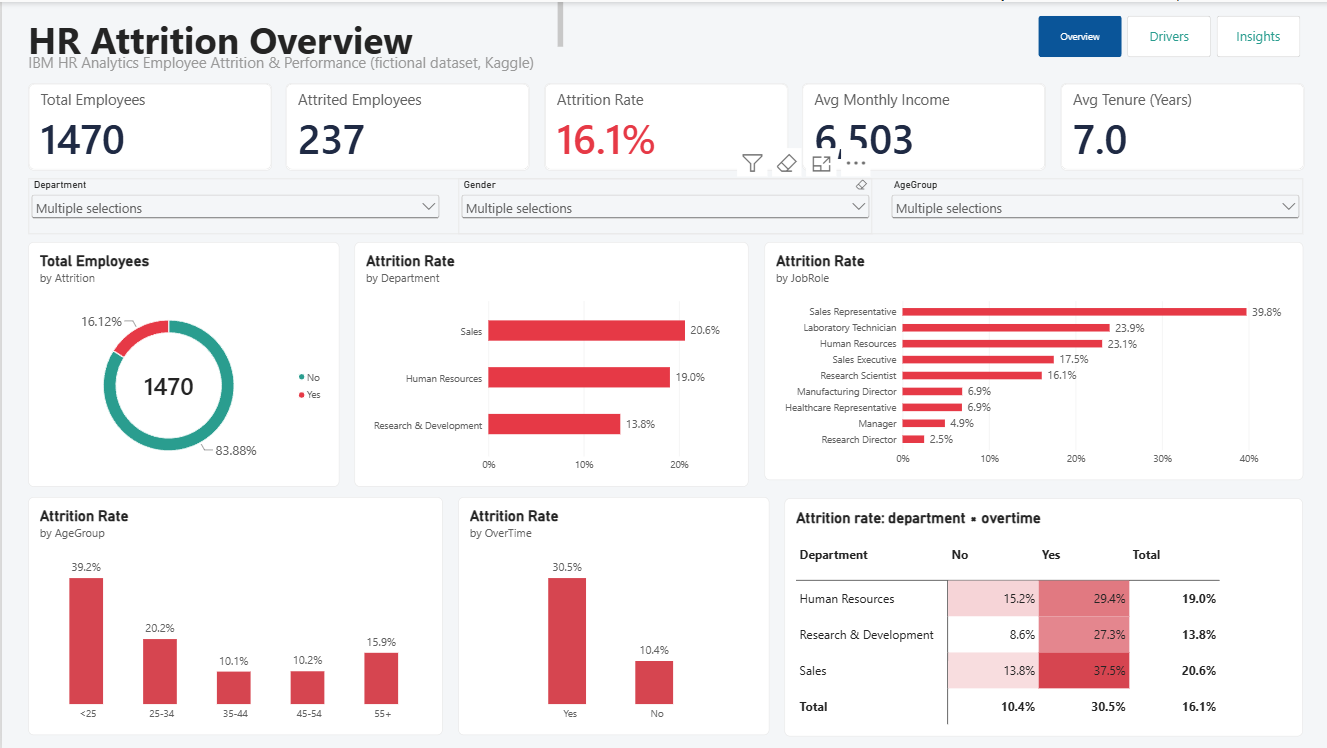

Layout of this report page (visuals, bound fields, positions):
{"tool":"powerbi","page":{"name":"Overview","canvas":[1920,1080],"ordinal":0},"visuals":[{"type":"cardVisual","title":"Total Employee","fields":{"Data":["Measures (2).Total Employees"]},"box":[38,117,353,126],"z":0,"group":"g1"},{"type":"slicer","title":"Department","fields":{"Values":["HR_Employee.Department"]},"box":[38,255,600,81],"z":0,"group":"g2"},{"type":"cardVisual","title":"Attrited employee","fields":{"Data":["Measures (2).Attrited Employees"]},"box":[411,117,353,126],"z":1000,"group":"g1"},{"type":"slicer","title":"Gender","fields":{"Values":["HR_Employee.Gender"]},"box":[660,255,600,81],"z":1000,"group":"g2"},{"type":"group","id":"g1","title":"KPI","box":[38,117,1847,126],"z":2000},{"type":"cardVisual","title":"Attrition Rate","fields":{"Data":["Measures (2).Attrition Rate"]},"box":[785,117,353,126],"z":2000,"group":"g1"},{"type":"slicer","title":"Age Group","fields":{"Values":["HR_Employee.AgeGroup"]},"box":[1283,255,600,81],"z":2000,"group":"g2"},{"type":"cardVisual","title":"Avg Monthly Income","fields":{"Data":["Measures (2).Avg Monthly Income"]},"box":[1158,117,353,126],"z":3000,"group":"g1"},{"type":"group","id":"g2","title":"Slicer","box":[38,255,1845,81],"z":3000},{"type":"cardVisual","title":"Avg Tenure","fields":{"Data":["Measures (2).Avg Tenure (Years)"]},"box":[1532,117,353,126],"z":4000,"group":"g1"},{"type":"donutChart","fields":{"Category":["HR_Employee.Attrition"],"Y":["Measures (2).Total Employees"]},"box":[38,348,450,354],"z":4000},{"type":"clusteredBarChart","fields":{"Category":["HR_Employee.Department"],"Y":["Measures (2).Attrition Rate"]},"box":[510,348,570,354],"z":5000},{"type":"textbox","title":"Subtitle","box":[38,72,1200,33],"z":5500},{"type":"clusteredBarChart","fields":{"Category":["HR_Employee.JobRole"],"Y":["Measures (2).Attrition Rate"]},"box":[1103,348,780,345],"z":6000},{"type":"clusteredColumnChart","fields":{"Category":["HR_Employee.AgeGroup"],"Y":["Measures (2).Attrition Rate"]},"box":[38,717,600,345],"z":7000},{"type":"clusteredColumnChart","fields":{"Category":["HR_Employee.OverTime"],"Y":["Measures (2).Attrition Rate"]},"box":[660,717,450,345],"z":8000},{"type":"pivotTable","title":"Attrition rate: department × overtime","fields":{"Rows":["HR_Employee.Department"],"Values":["Measures (2).Attrition Rate"],"Columns":["HR_Employee.OverTime"]},"box":[1133,717.6,750,345],"z":9000},{"type":"textbox","title":"Title","box":[38,0,774.5,76],"z":10000},{"type":"pageNavigator","box":[1500,20,380,60],"z":10001}]}

Visuals, with their boxes in screenshot pixels (x1, y1, x2, y2), scaled from the page's 1920x1080 canvas onto the 1327x748 screenshot:
"Total Employee" cardVisual: box=[26, 81, 270, 168]
"Department" slicer: box=[26, 177, 441, 233]
"Attrited employee" cardVisual: box=[284, 81, 528, 168]
"Gender" slicer: box=[456, 177, 871, 233]
"KPI" group: box=[26, 81, 1303, 168]
"Attrition Rate" cardVisual: box=[543, 81, 787, 168]
"Age Group" slicer: box=[887, 177, 1301, 233]
"Avg Monthly Income" cardVisual: box=[800, 81, 1044, 168]
"Slicer" group: box=[26, 177, 1301, 233]
"Avg Tenure" cardVisual: box=[1059, 81, 1303, 168]
donutChart - HR_Employee.Attrition x Measures (2).Total Employees: box=[26, 241, 337, 486]
clusteredBarChart - HR_Employee.Department x Measures (2).Attrition Rate: box=[352, 241, 746, 486]
"Subtitle" textbox: box=[26, 50, 856, 73]
clusteredBarChart - HR_Employee.JobRole x Measures (2).Attrition Rate: box=[762, 241, 1301, 480]
clusteredColumnChart - HR_Employee.AgeGroup x Measures (2).Attrition Rate: box=[26, 497, 441, 736]
clusteredColumnChart - HR_Employee.OverTime x Measures (2).Attrition Rate: box=[456, 497, 767, 736]
"Attrition rate: department × overtime" pivotTable: box=[783, 497, 1301, 736]
"Title" textbox: box=[26, 0, 562, 53]
pageNavigator: box=[1037, 14, 1299, 55]
